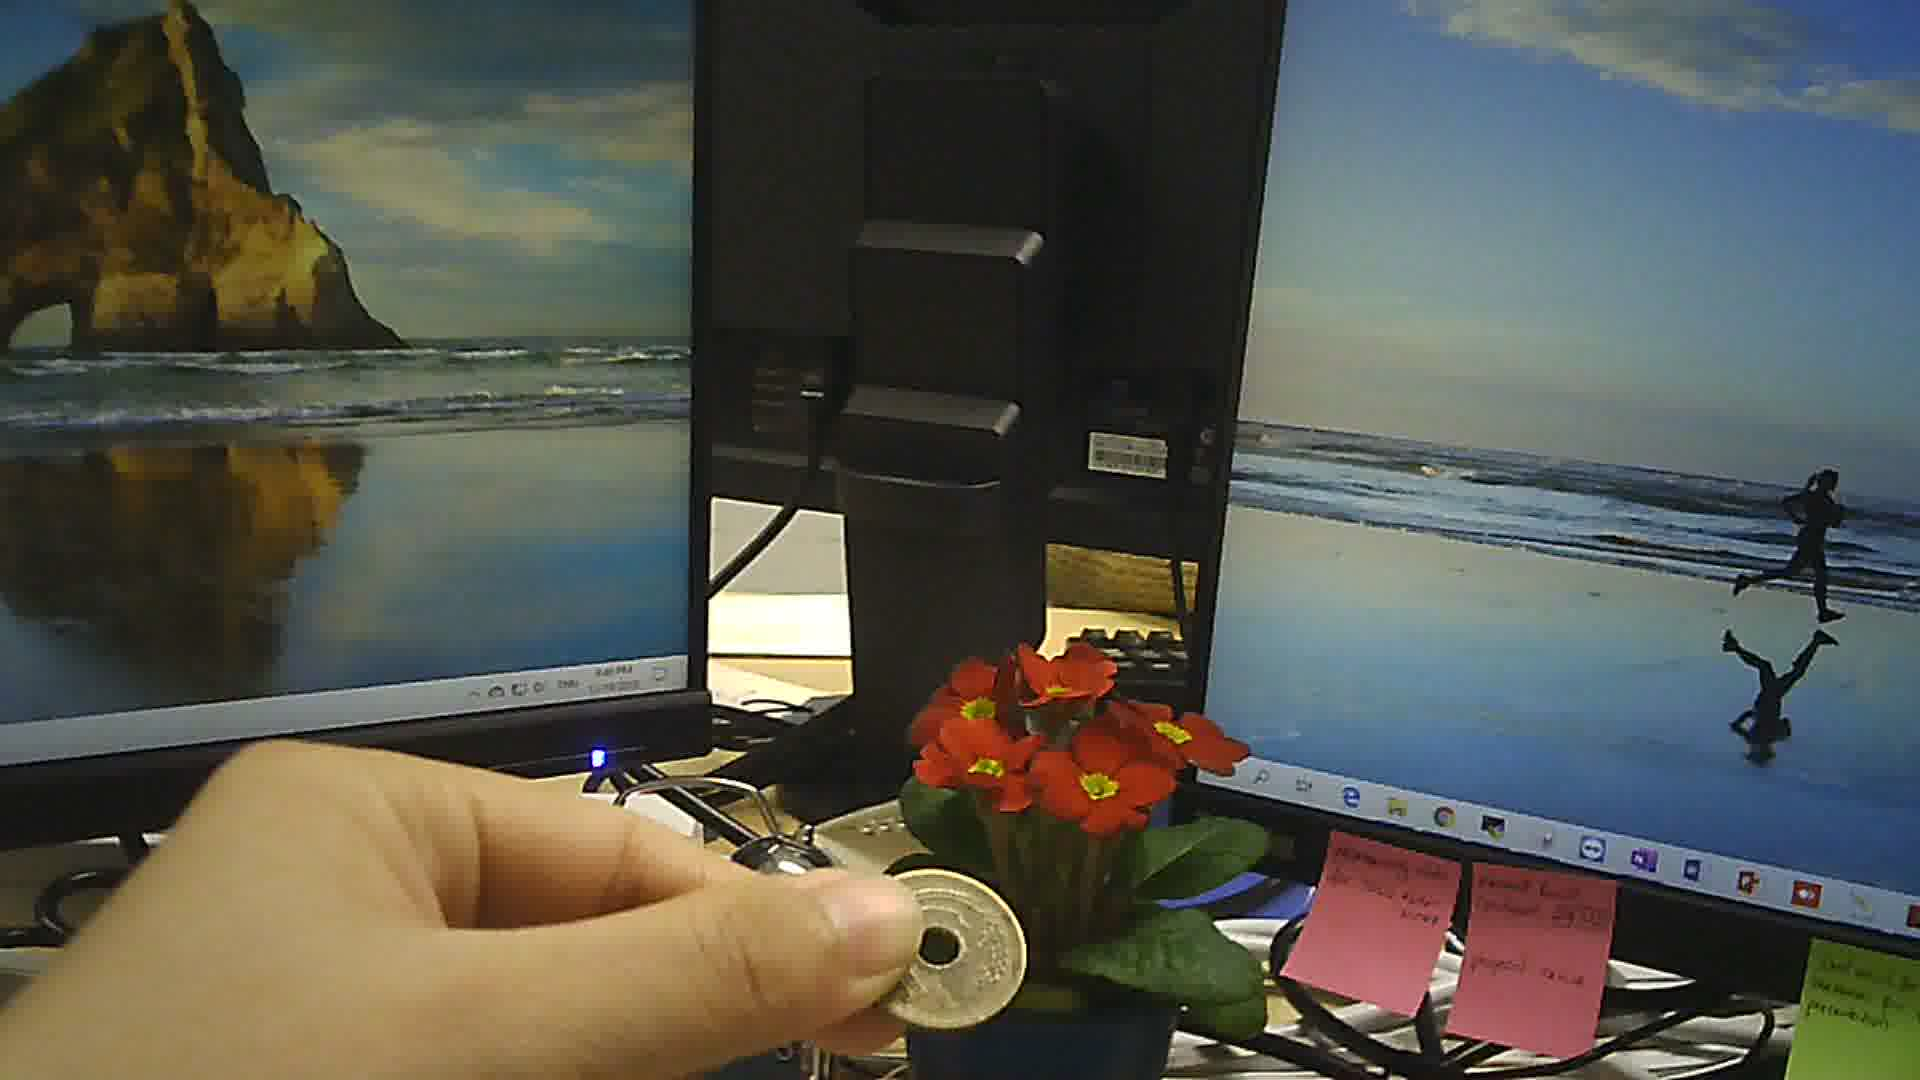5 Yen: (847, 865, 1040, 1033)
